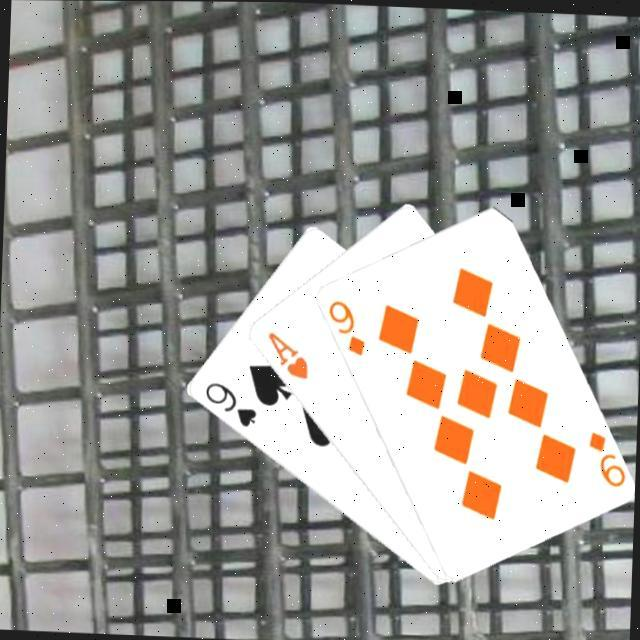9D: (584, 423, 631, 488), (324, 293, 371, 357)
9S: (201, 376, 262, 428)
AH: (262, 325, 314, 380)
